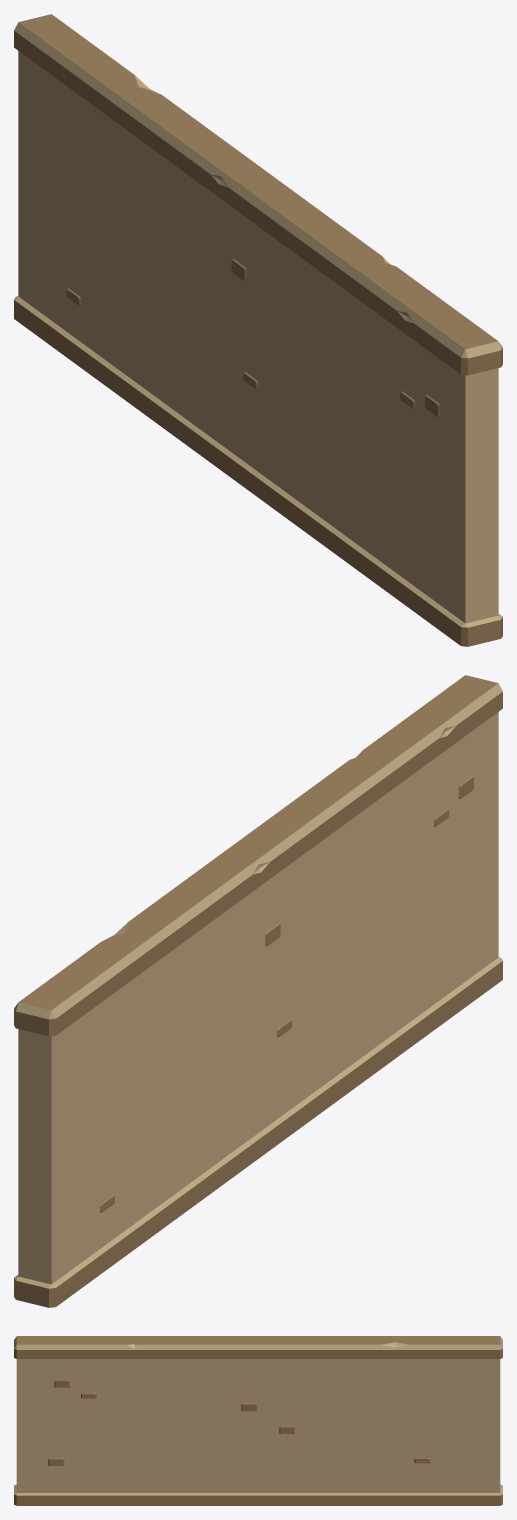
File: FenceStoneTallLarge_01.glb
3 views of the same model, one above another, from view 1: azimuth 30°, elevation 25°; view 2: azimuth 150°, elevation 25°; view 3: azimuth 270°, elevation 25° (orthographic). The views are drawn at different scales.
Parts seen in each view (by area): view 1: FenceStoneTallLarge_01; view 2: FenceStoneTallLarge_01; view 3: FenceStoneTallLarge_01.
Part boxes in pixels (box(x1,y1,x2,y2)): FenceStoneTallLarge_01: box(14, 14, 502, 646); FenceStoneTallLarge_01: box(14, 675, 502, 1307); FenceStoneTallLarge_01: box(14, 1336, 502, 1505).
Size of what is drawn, in the model's own units: 0.2713 by 1.82 by 5.06.
Materials: 1 (1 with a texture image).
